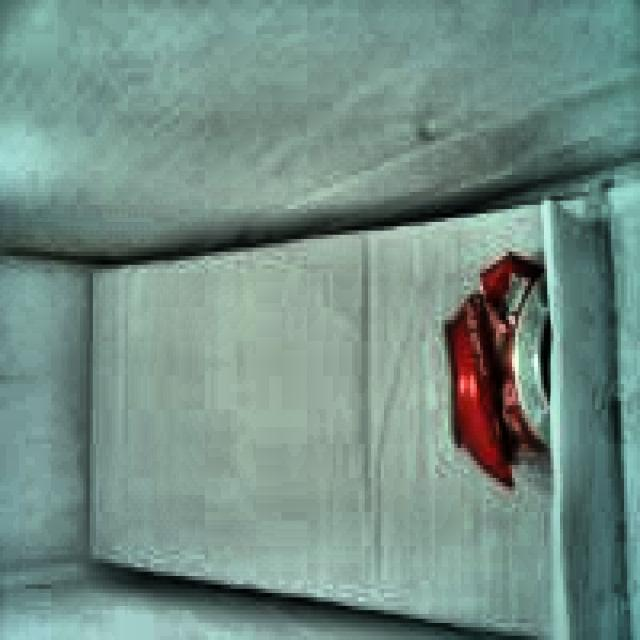Cans: (421, 232, 556, 494)
